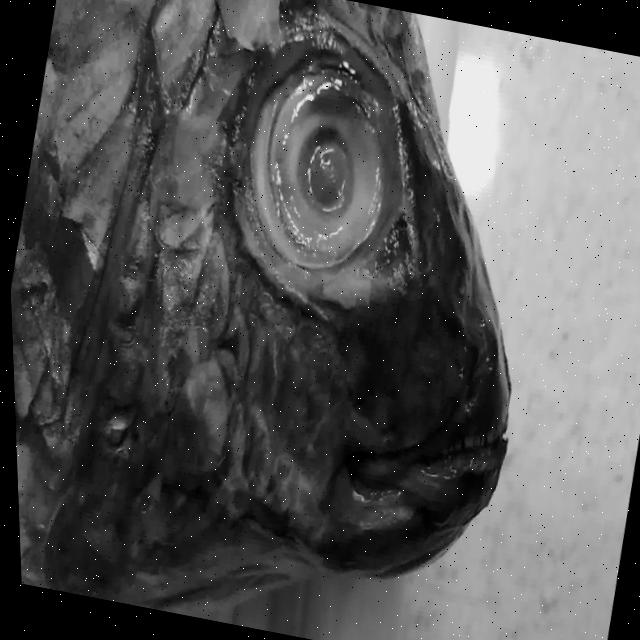Non-Fresh: (207, 20, 437, 318)
